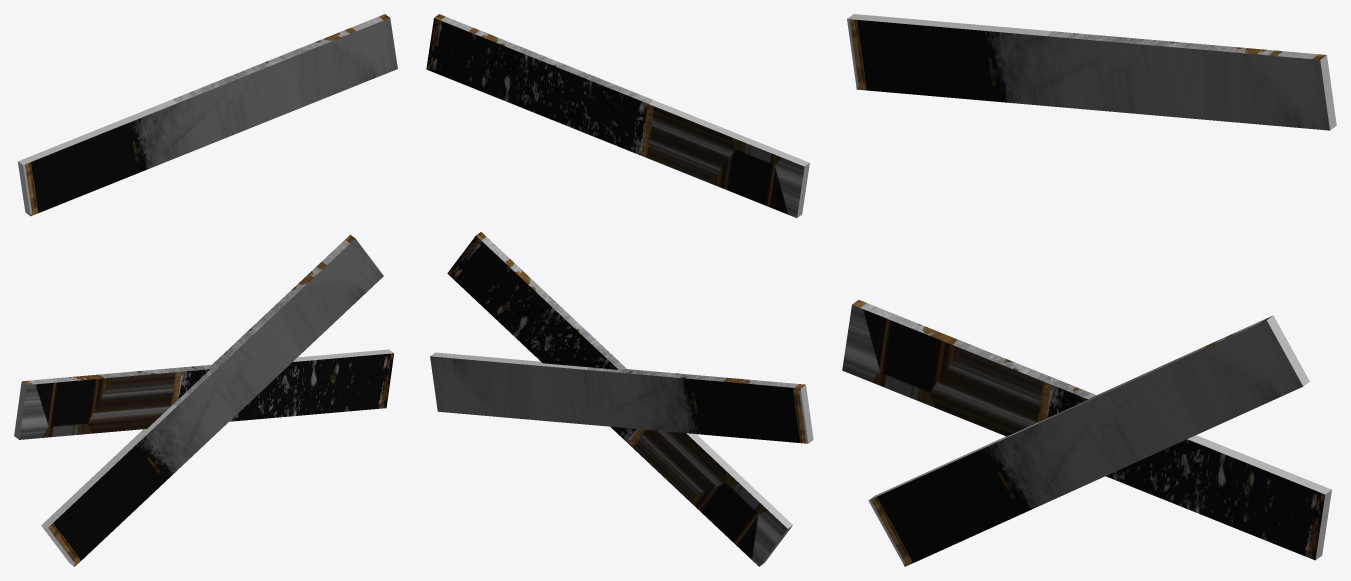
File: window boards 2.fbx
The picture shows the model from 3 angles, left to right: view 1: azimuth 30°, elevation 25°; view 2: azimuth 150°, elevation 25°; view 3: azimuth 330°, elevation 25°; orthographic projection. The views are drawn at different scales.
Visible parts, largest first — view 1: window boards; view 2: window boards; view 3: window boards.
Boxes of the visible parts, x1,y1,x2,y2 form: window boards: (14, 14, 397, 566); window boards: (426, 14, 813, 566); window boards: (842, 14, 1336, 566).
Size of the model in its own units: 387 by 458 by 15.3.
